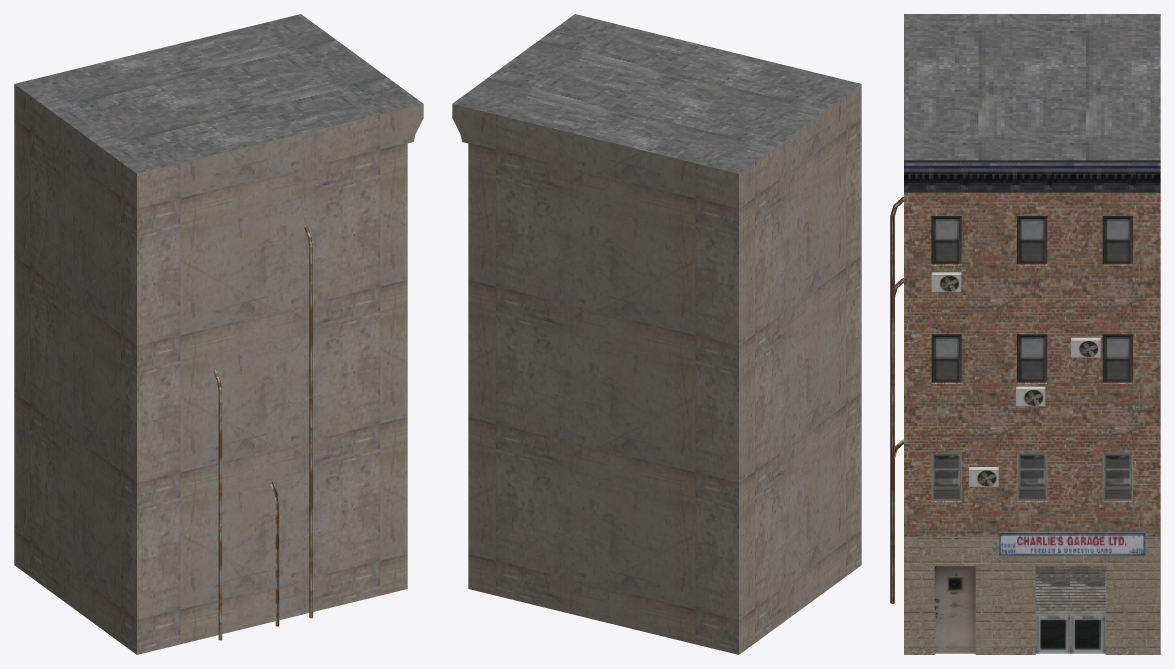
File: psx_apartment.glb
The picture shows the model from 3 angles, left to right: view 1: azimuth 30°, elevation 25°; view 2: azimuth 150°, elevation 25°; view 3: azimuth 270°, elevation 25°; orthographic projection. The views are drawn at different scales.
Visible parts, largest first — view 1: PSX Apartment; view 2: PSX Apartment; view 3: PSX Apartment.
Boxes of the visible parts, x1,y1,x2,y2 form: PSX Apartment: [14, 14, 423, 654]; PSX Apartment: [452, 14, 861, 654]; PSX Apartment: [890, 14, 1160, 654].
Bounding box in the file's own units: 5.3 × 8.5 × 4.14.
Materials: 12 (12 with a texture image).
